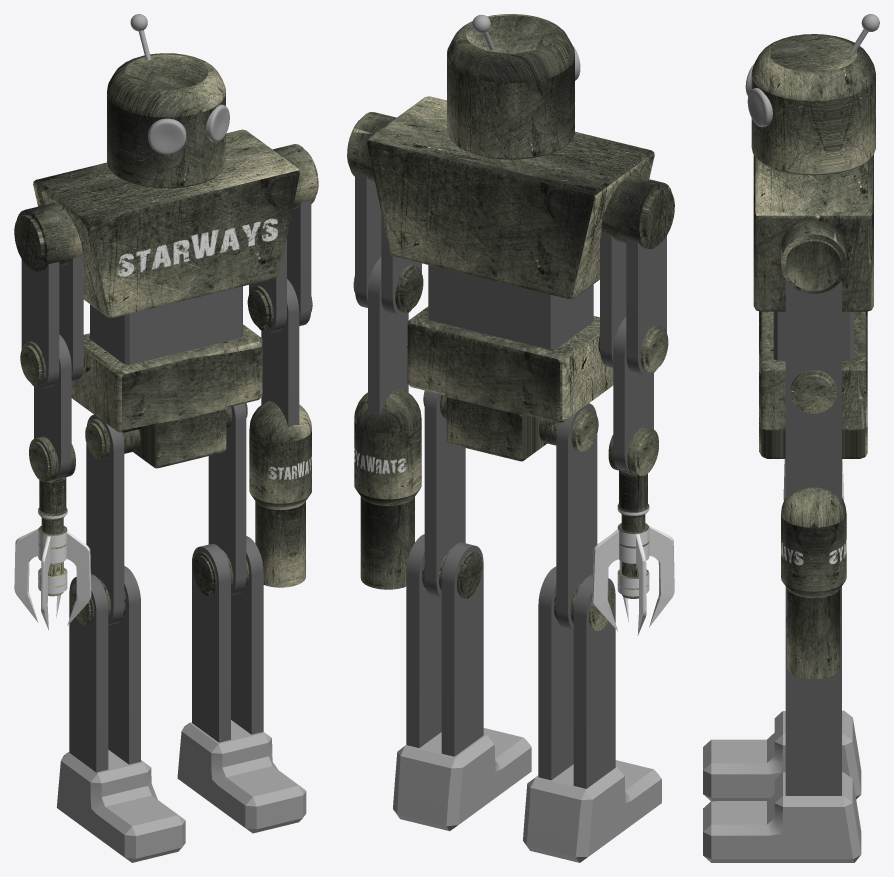
Rendered from canon_bot.fbx.
The picture shows the model from 3 angles, left to right: view 1: azimuth 30°, elevation 25°; view 2: azimuth 150°, elevation 25°; view 3: azimuth 270°, elevation 25°; orthographic projection. The views are drawn at different scales.
Visible parts, largest first — view 1: chest, hip, polySurface1, L_leg, R_knee, R_arm1, canon, L_feet, R_feet, stomach, R_wrist1, R_thigh (+4 smaller); view 2: chest, hip, polySurface1, L_leg, R_knee, canon, R_arm1, L_feet, R_feet, stomach, R_wrist1, R_thigh (+4 smaller); view 3: polySurface1, chest, canon, L_feet, L_arm1, L_leg, hip, L_hand, R_feet, stomach.
Part boxes in pixels (x1,y1,x2,y2): chest: [33, 129, 299, 317]; hip: [71, 324, 262, 468]; polySurface1: [107, 14, 229, 188]; L_leg: [192, 536, 263, 742]; R_knee: [69, 566, 140, 772]; R_arm1: [14, 203, 83, 389]; canon: [249, 401, 311, 587]; L_feet: [177, 720, 306, 833]; R_feet: [56, 750, 185, 862]; stomach: [90, 286, 242, 364]; R_wrist1: [14, 436, 91, 630]; R_thigh: [85, 414, 140, 625]; chest: [367, 96, 654, 298]; hip: [407, 306, 613, 461]; polySurface1: [447, 14, 580, 159]; L_leg: [406, 534, 483, 756]; R_knee: [538, 566, 615, 788]; canon: [354, 388, 421, 589]; R_arm1: [600, 175, 674, 375]; L_feet: [393, 728, 531, 831]; R_feet: [523, 760, 661, 862]; stomach: [428, 265, 593, 349]; R_wrist1: [592, 427, 674, 635]; R_thigh: [539, 403, 598, 630]; polySurface1: [745, 14, 879, 175]; chest: [753, 155, 873, 311]; canon: [781, 487, 846, 679]; L_feet: [703, 772, 861, 862]; L_arm1: [781, 220, 846, 416]; L_leg: [785, 615, 841, 795]; hip: [759, 311, 867, 458]; L_hand: [785, 370, 841, 501]; R_feet: [703, 710, 861, 801]; stomach: [773, 311, 853, 360].
Bounding box in the file's own units: 5.99 × 15.75 × 3.13.
